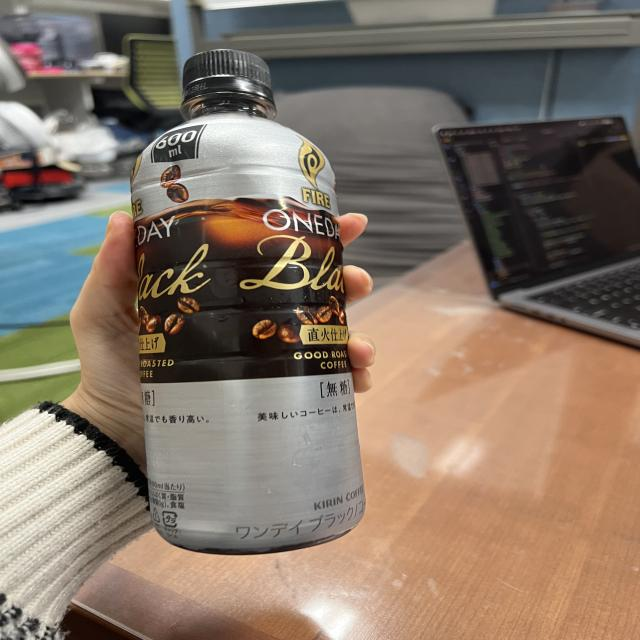coffee-black: (132, 41, 349, 558)
